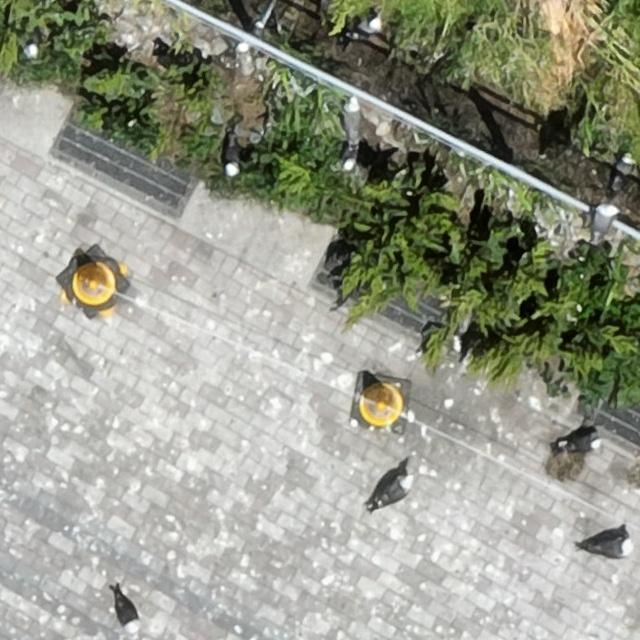umineko: (374, 475, 414, 511), (605, 152, 633, 198), (347, 20, 388, 40), (591, 204, 613, 241), (116, 595, 139, 630), (591, 538, 631, 557), (561, 433, 600, 452), (343, 104, 358, 142), (225, 140, 240, 176)
